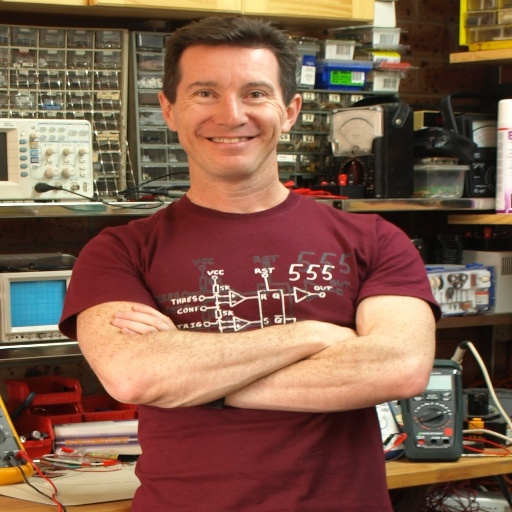hand: (112, 302, 180, 335)
